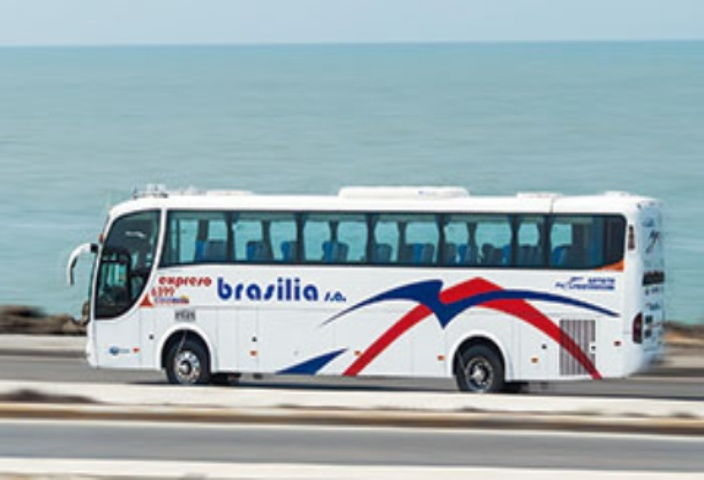bus: (54, 159, 682, 406)
